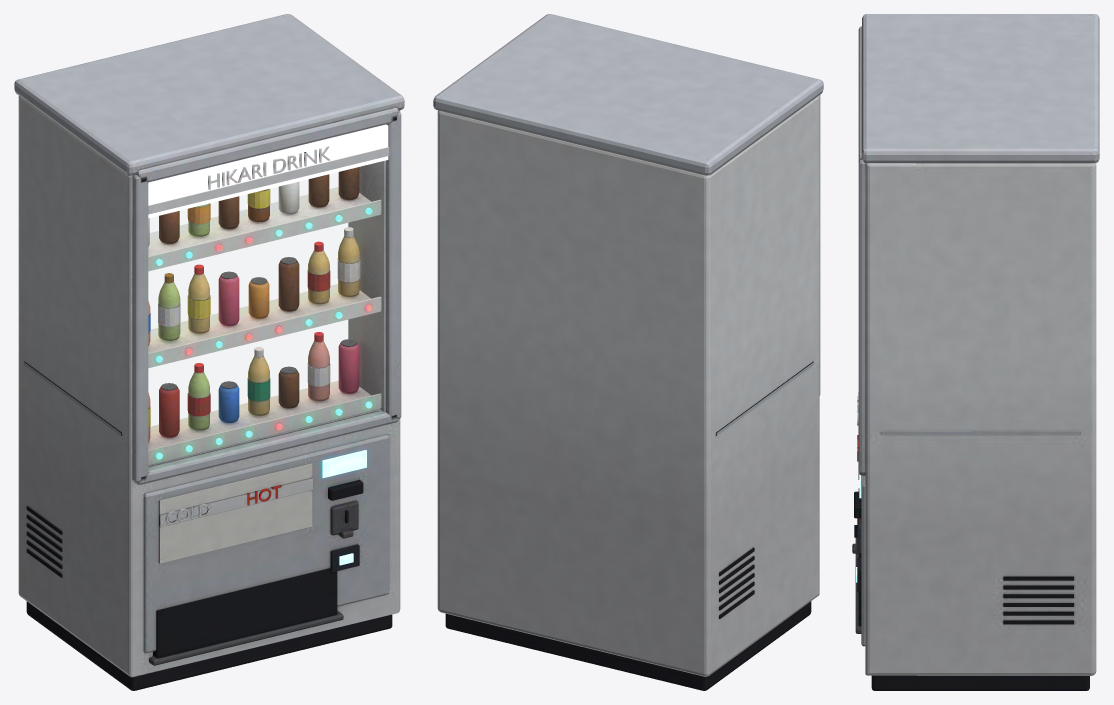
File: vending_white.glb
The picture shows the model from 3 angles, left to right: view 1: azimuth 30°, elevation 25°; view 2: azimuth 150°, elevation 25°; view 3: azimuth 270°, elevation 25°; orthographic projection. The views are drawn at different scales.
Parts seen in each view (by area): view 1: vending_white; view 2: vending_white; view 3: vending_white.
Part boxes in pixels (x1=…): vending_white: x1=14, y1=14, x2=404, y2=690; vending_white: x1=433, y1=14, x2=823, y2=690; vending_white: x1=852, y1=14, x2=1099, y2=690.
Bounding box in the file's own units: 1.02 × 1.87 × 0.77.
2 materials, 1 textured.
